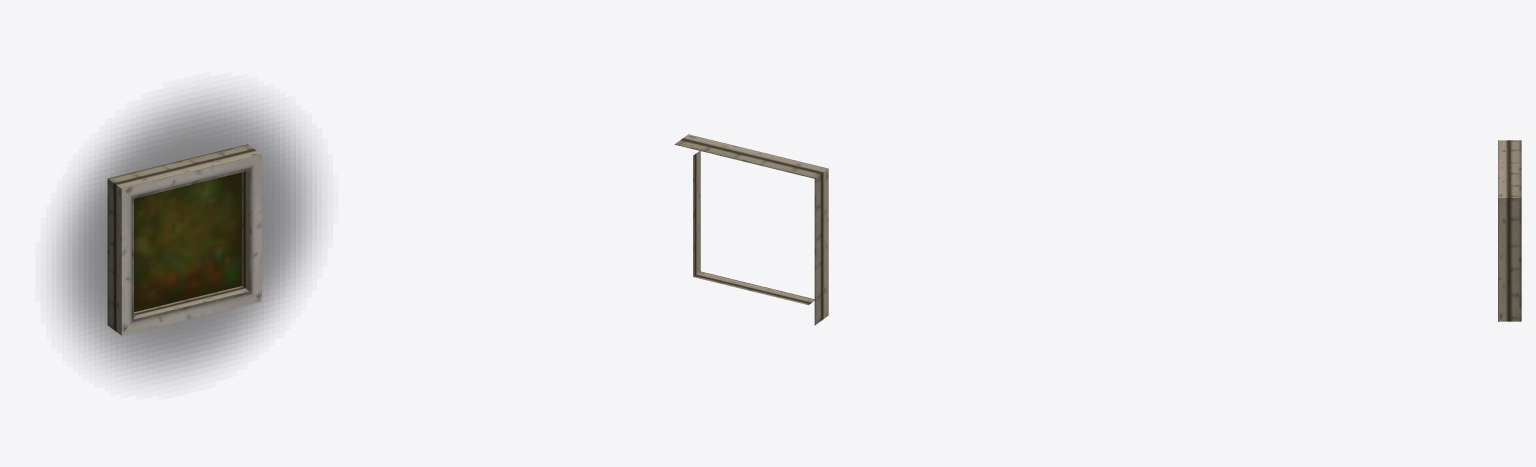
The model's file is prop_tree_fat_brickbox_ur.glb.
The picture shows the model from 3 angles, left to right: view 1: azimuth 30°, elevation 25°; view 2: azimuth 150°, elevation 25°; view 3: azimuth 270°, elevation 25°; orthographic projection. The views are drawn at different scales.
Visible parts, largest first — view 1: shadow_large_brickbox_ul_4, box_drit_7; view 2: box_drit_7; view 3: box_drit_7.
Part boxes in pixels (bbox=[...]): shadow_large_brickbox_ul_4: bbox=[56, 94, 316, 379]; box_drit_7: bbox=[107, 144, 261, 335]; box_drit_7: bbox=[674, 134, 828, 325]; box_drit_7: bbox=[1498, 140, 1521, 321].
Bounding box in the file's own units: 24.78 × 23.54 × 25.34.
Materials: 4 (4 with a texture image).
